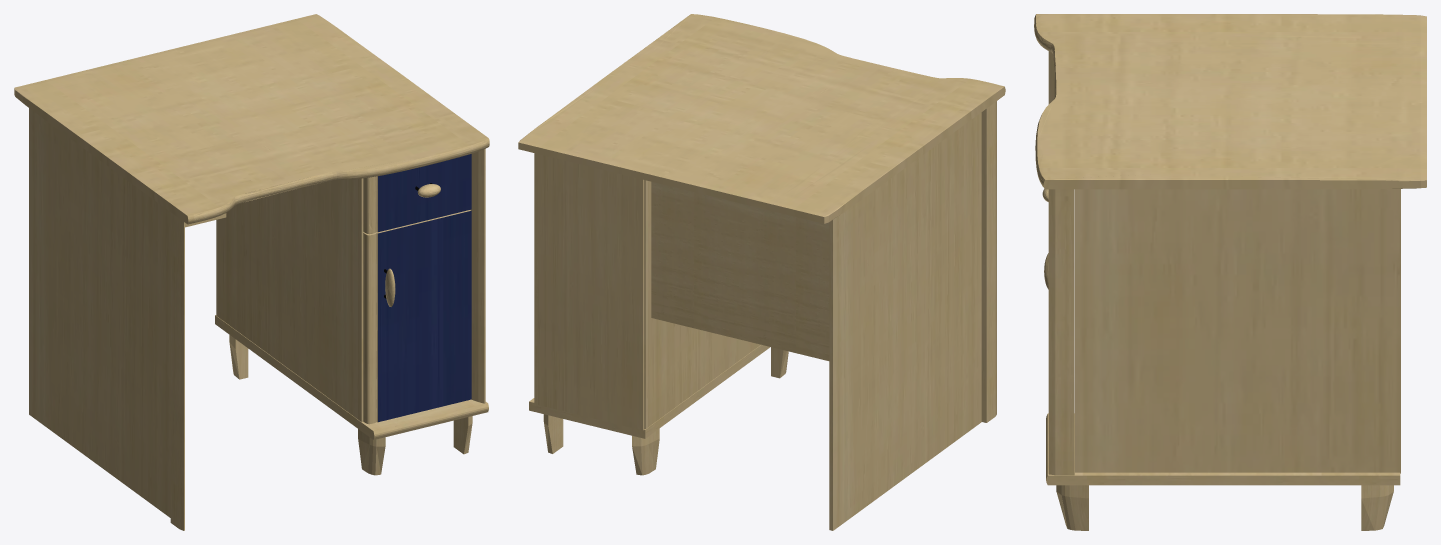
Rendered from sh-bsby-biurko3.glb.
The picture shows the model from 3 angles, left to right: view 1: azimuth 30°, elevation 25°; view 2: azimuth 150°, elevation 25°; view 3: azimuth 270°, elevation 25°; orthographic projection. The views are drawn at different scales.
Visible parts, largest first — view 1: Cube.009, Cube.005_Cube.004; view 2: Cube.009; view 3: Cube.009.
Part boxes in pixels (<box>): Cube.009: <box>14,14,489,530</box>; Cube.005_Cube.004: <box>378,154,471,422</box>; Cube.009: <box>518,14,1005,530</box>; Cube.009: <box>1034,14,1426,530</box>.
Size of the model in its own units: 1 by 1 by 1.
3 materials, 2 textured.
